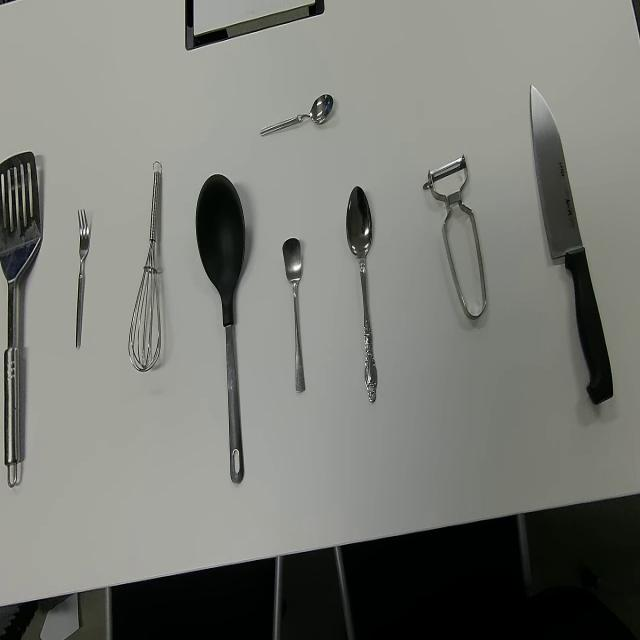Desert-Spoon: (346, 184, 378, 405)
Dinner-Fork: (75, 208, 90, 350)
Kitchen-Knife: (529, 82, 615, 406)
Peeler: (422, 151, 487, 321)
Serving-Spoon: (195, 172, 246, 486), (0, 148, 42, 490)
Tea-Spoon: (281, 234, 306, 393), (258, 92, 334, 138)
Whisk: (128, 158, 162, 372)
